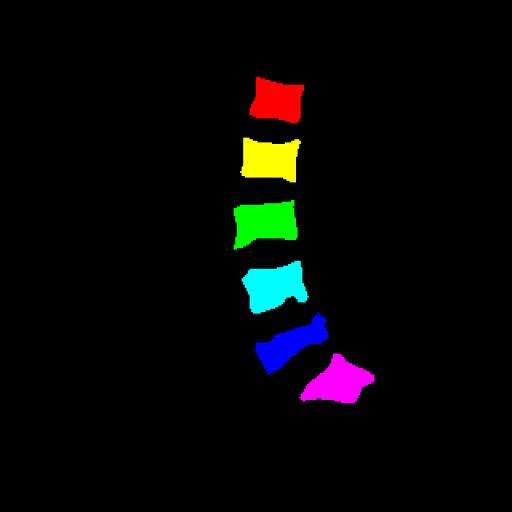L1: (250, 77, 304, 123)
L2: (241, 137, 301, 182)
L3: (234, 200, 298, 248)
L4: (242, 261, 308, 314)
L5: (256, 314, 328, 373)
S1: (300, 353, 375, 403)
